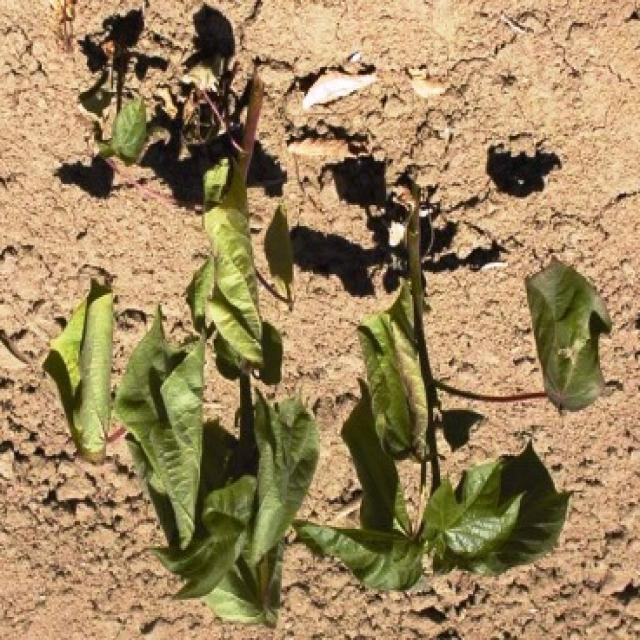Fusarium Wilt: (42, 40, 596, 603)
